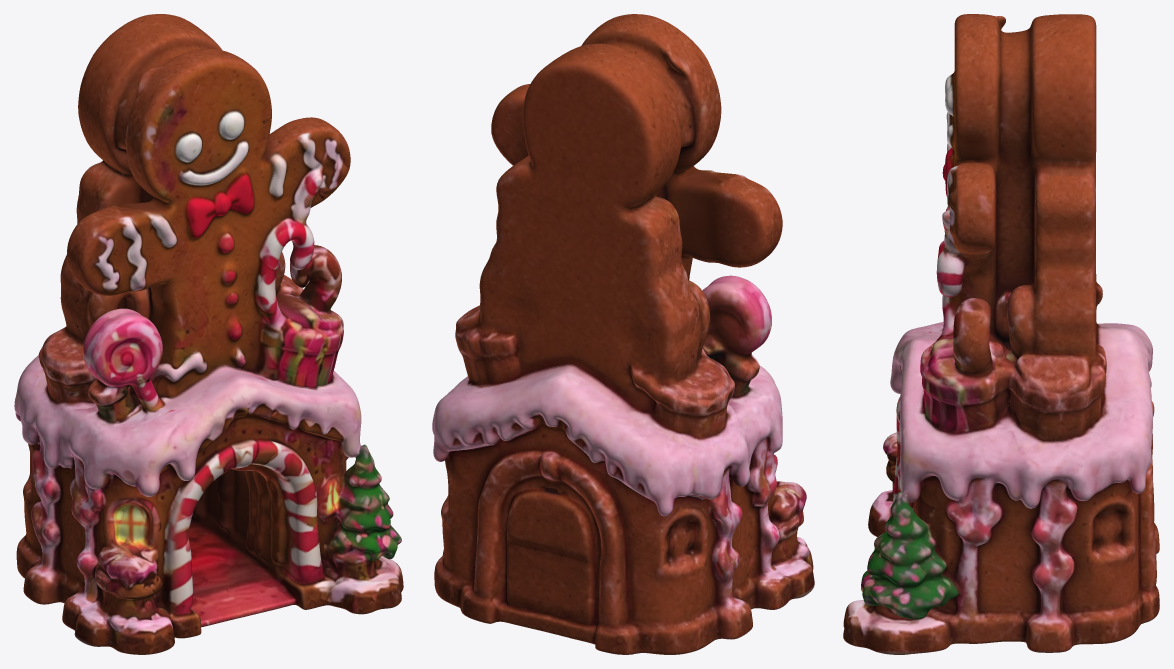
File: Meshy_AI_Gingerbread_Holiday_Hideaway_20261104_texture.fbx
3 renders of one model, left to right at view 1: azimuth 30°, elevation 25°; view 2: azimuth 150°, elevation 25°; view 3: azimuth 270°, elevation 25°, orthographic. The views are drawn at different scales.
Visible parts, largest first — view 1: Mesh_0; view 2: Mesh_0; view 3: Mesh_0.
Part boxes in pixels (x1,y1,x2,y2): Mesh_0: (14, 14, 403, 654); Mesh_0: (432, 14, 814, 654); Mesh_0: (843, 14, 1159, 654).
Bounding box in the file's own units: 111 × 190 × 98.12.
1 material, 1 textured.
